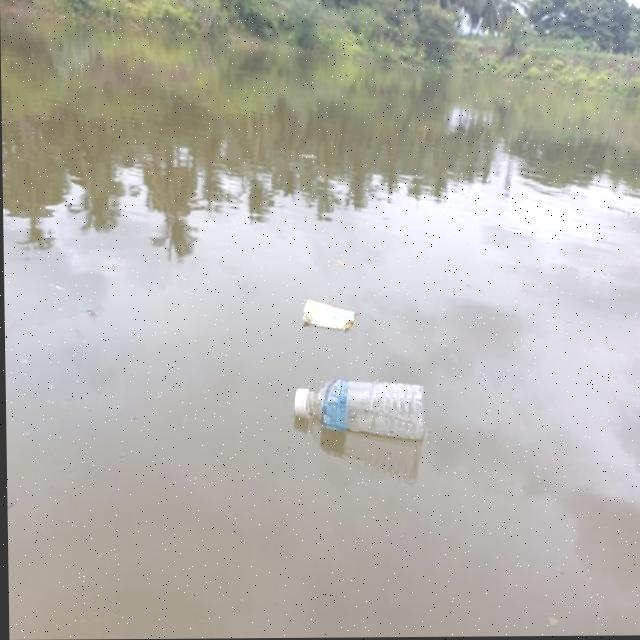paper: (296, 291, 365, 345)
waterbottle: (281, 353, 434, 451)
